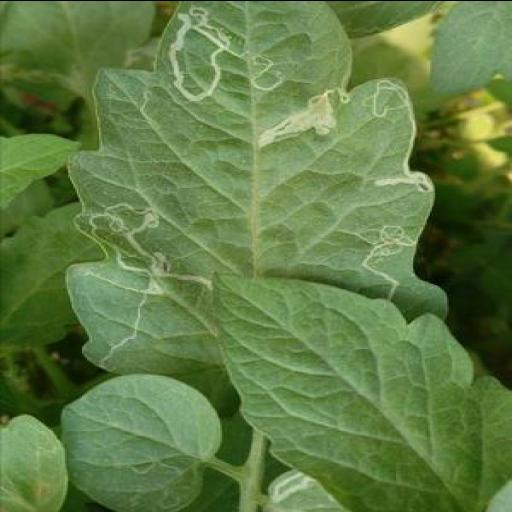disease_tomato: (64, 0, 448, 376)
